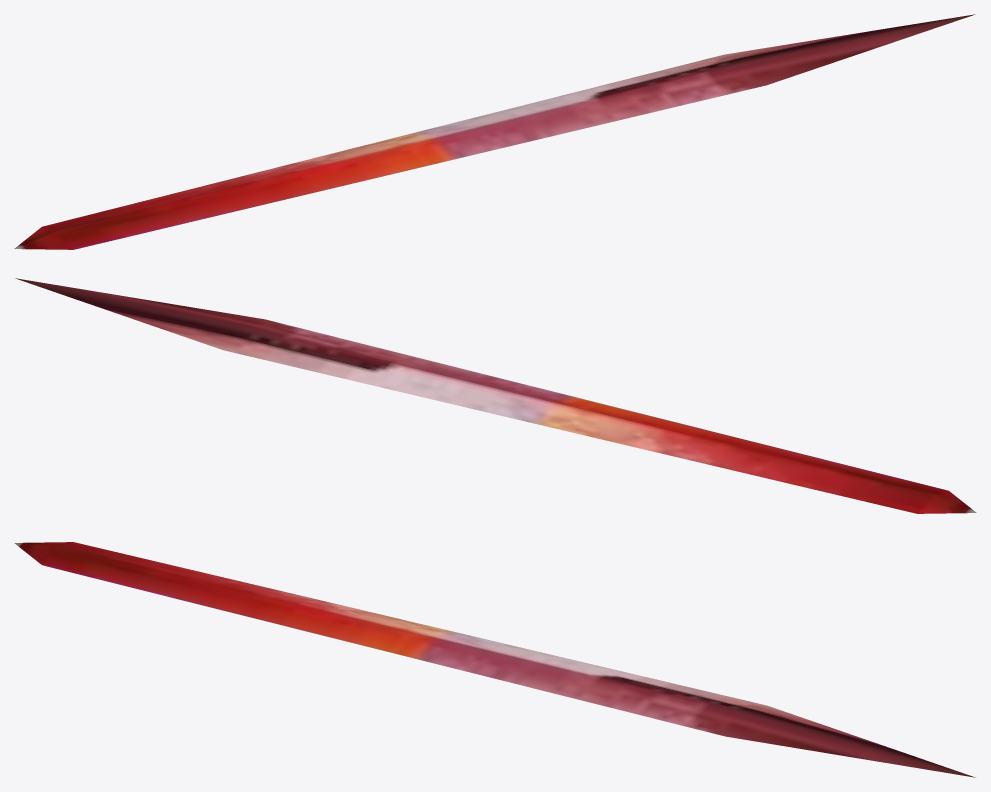
Rendered from UFORMOWANE_METEORYTOWE_OSTRZE.glb.
3 views of the same model, one above another, from view 1: azimuth 30°, elevation 25°; view 2: azimuth 150°, elevation 25°; view 3: azimuth 330°, elevation 25° (orthographic).
Visible parts, largest first — view 1: UFORMOWANE_METEORYTOWE_OSTRZE; view 2: UFORMOWANE_METEORYTOWE_OSTRZE; view 3: UFORMOWANE_METEORYTOWE_OSTRZE.
Boxes of the visible parts, bbox=[...] form: UFORMOWANE_METEORYTOWE_OSTRZE: bbox=[14, 14, 975, 249]; UFORMOWANE_METEORYTOWE_OSTRZE: bbox=[15, 278, 976, 513]; UFORMOWANE_METEORYTOWE_OSTRZE: bbox=[14, 542, 975, 777].
Bounding box in the file's own units: 1.05 × 0.016 × 0.08.
1 material, 1 textured.
